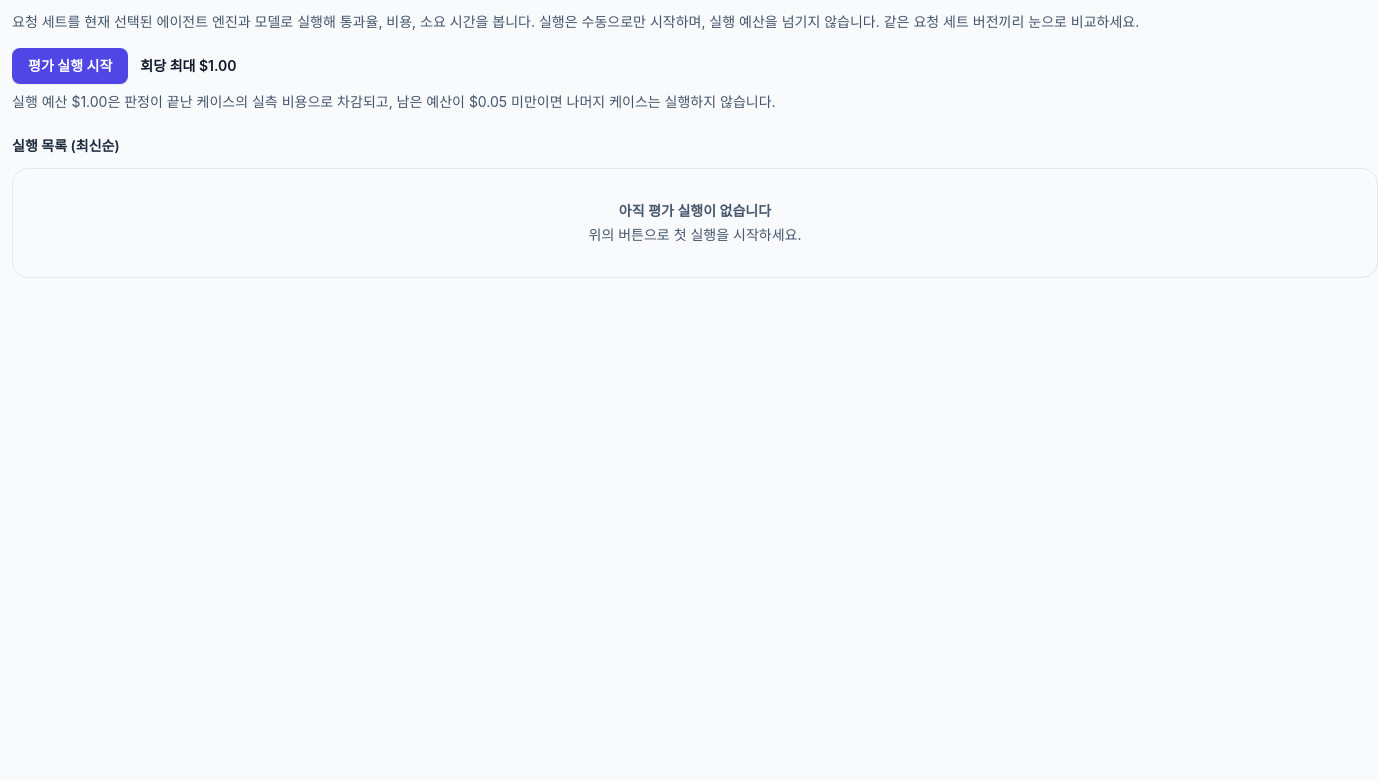
Test: EvalRunsPanel start confirmation — focus › puts focus on the note that explains why, when the refusal leaves the start button disabled (409)
Step 1. Click the button "평가 실행 시작" → (70, 66), box top-left (12, 48), bottom-right (128, 84)
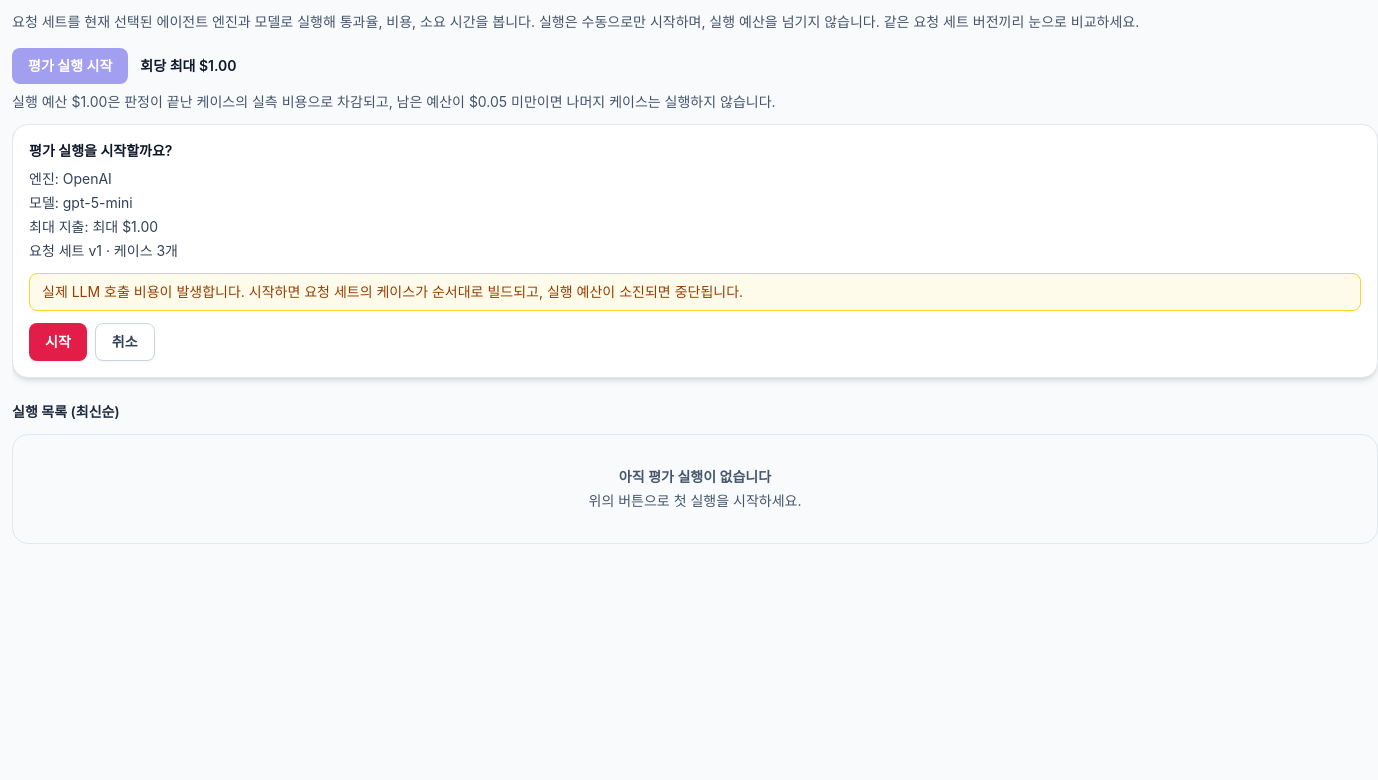
Step 2. Click the button "시작" → (58, 342), box top-left (29, 323), bottom-right (87, 361)
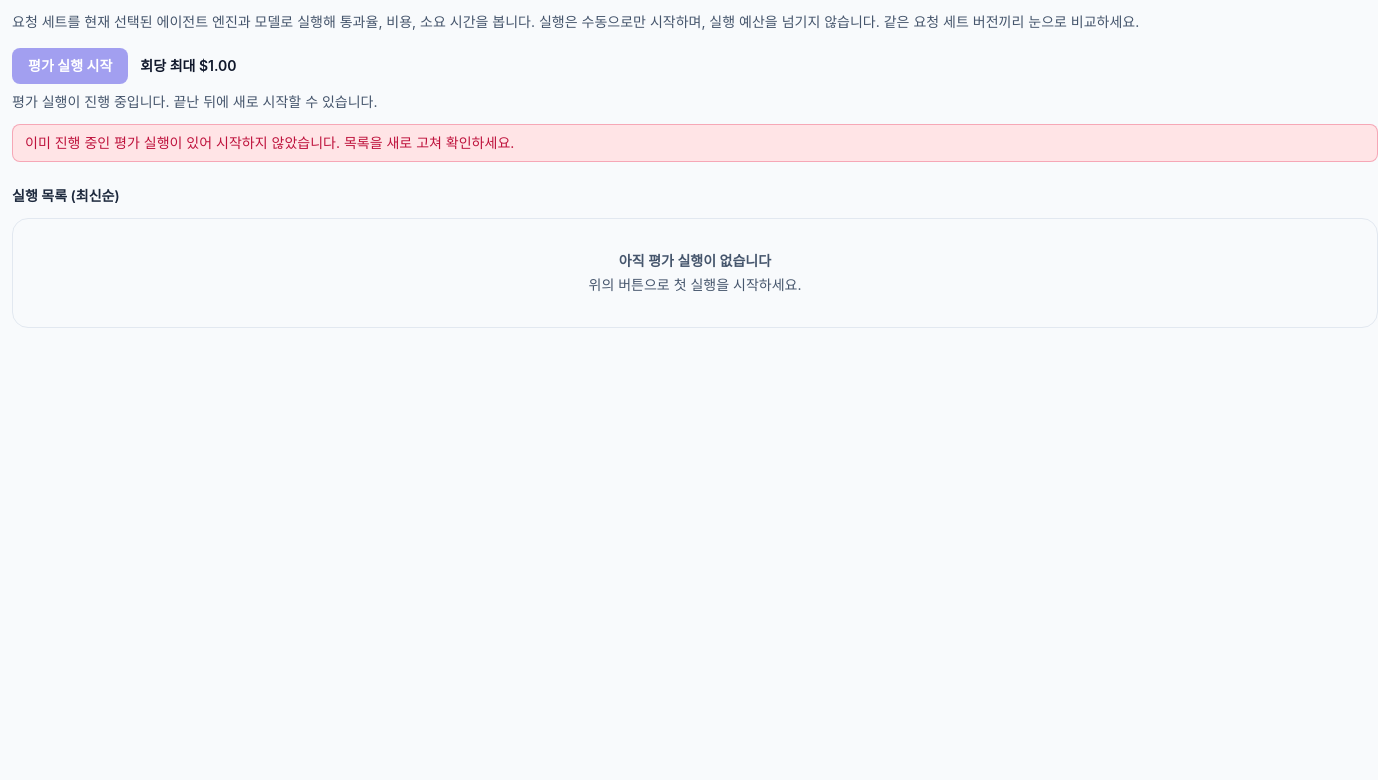
Expected: the button "평가 실행 시작" is disabled, top-left (12, 48), bottom-right (128, 84)
Expected: the text "이미 진행 중인 평가 실행이 있어 시작하지 않았습니다. 목록을 새로 고쳐 확인하세요." is shown, top-left (12, 124), bottom-right (1377, 162)
